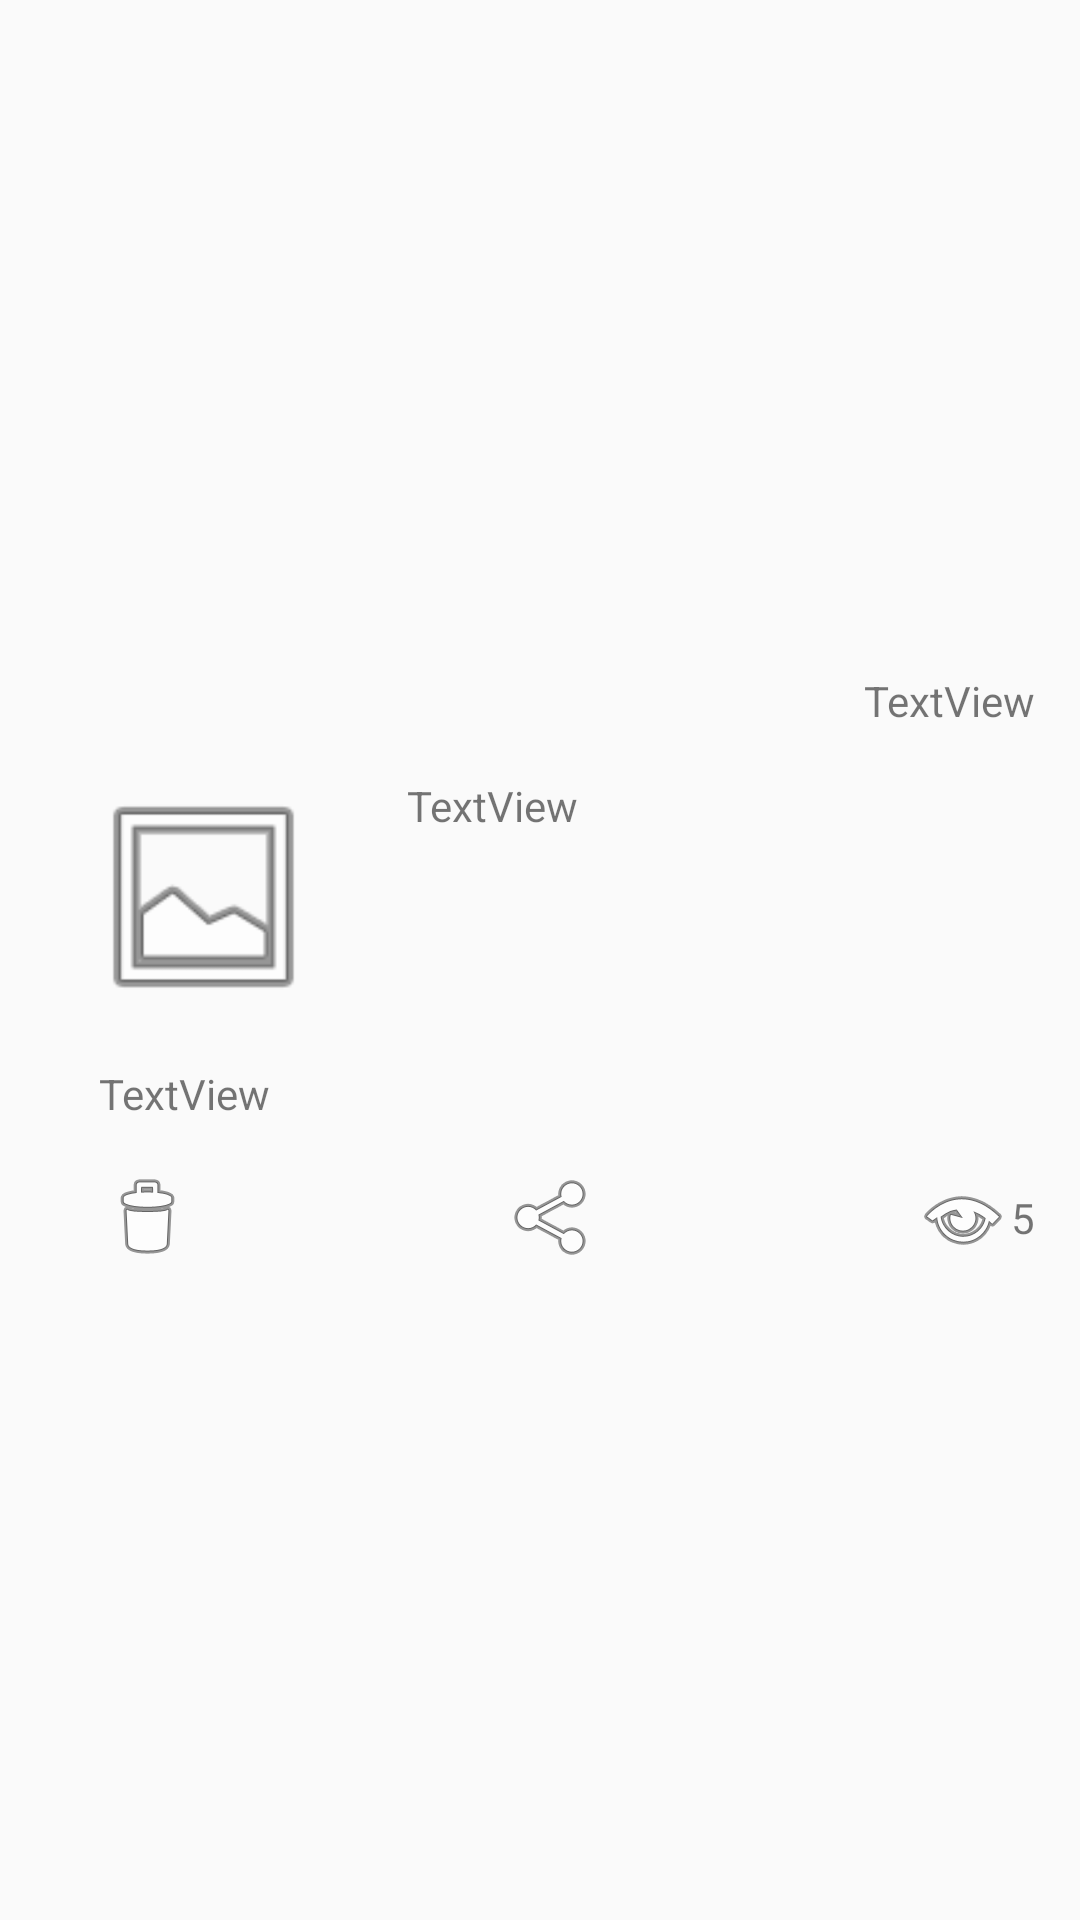

Screen size 1080 x 1920. Icon name, then its center in pixels as (x=x, y=y):
delete: (x=147, y=1216)
gallery: (x=203, y=897)
share: (x=550, y=1217)
